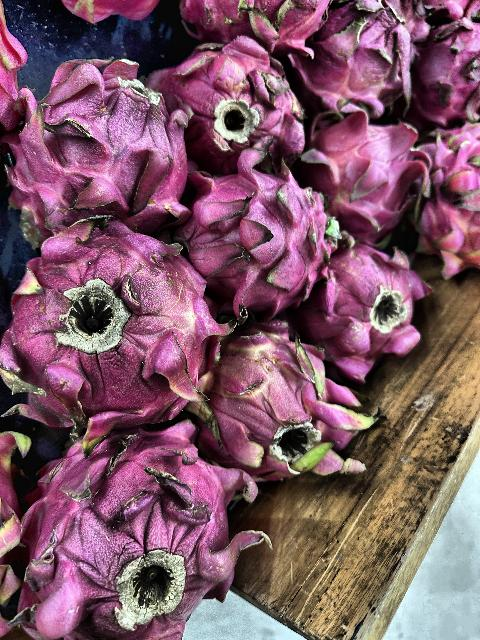buah-naga-belum-matang: (0, 217, 208, 421), (207, 330, 352, 486)
buah-naga-matang: (19, 418, 273, 640), (14, 54, 192, 236), (186, 146, 328, 310), (159, 34, 309, 172), (304, 100, 428, 234), (302, 236, 422, 362), (298, 0, 406, 111), (412, 114, 480, 272), (412, 7, 480, 118), (179, 0, 322, 48)
